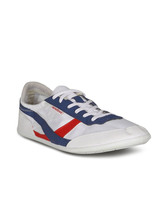shoes: (16, 80, 154, 154)
